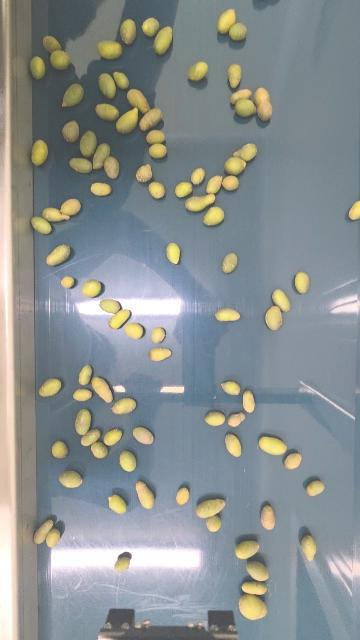Baby Potato: (237, 592, 269, 621), (253, 85, 274, 121), (258, 433, 288, 457), (195, 497, 227, 519), (91, 374, 114, 404), (152, 24, 174, 55), (138, 106, 164, 132), (126, 87, 151, 114), (115, 107, 140, 134), (184, 193, 217, 212), (135, 480, 155, 510), (46, 243, 71, 267), (61, 83, 84, 109), (97, 71, 117, 100), (78, 130, 98, 159), (34, 517, 54, 546), (217, 7, 237, 35), (96, 40, 124, 60), (91, 141, 111, 169), (201, 204, 225, 227), (186, 59, 210, 82), (234, 539, 260, 560), (119, 17, 138, 45), (30, 139, 49, 167), (39, 376, 63, 398), (246, 560, 270, 582), (271, 287, 292, 312), (224, 155, 249, 176), (300, 534, 318, 562), (30, 215, 54, 236), (233, 97, 257, 118), (259, 504, 278, 530), (265, 305, 284, 331), (42, 206, 71, 223), (74, 408, 92, 435), (235, 140, 258, 161), (61, 119, 81, 143), (241, 579, 269, 596), (29, 55, 47, 81), (94, 103, 120, 121), (49, 49, 71, 70), (226, 62, 243, 89), (59, 469, 83, 488), (225, 433, 243, 458), (111, 397, 136, 415), (60, 197, 82, 217), (103, 155, 121, 179), (294, 270, 311, 295), (133, 425, 154, 445), (81, 279, 102, 299), (109, 309, 130, 329), (215, 307, 241, 323), (141, 16, 160, 37), (204, 174, 223, 195), (79, 428, 101, 446), (221, 251, 238, 274), (69, 156, 92, 173), (229, 21, 248, 41), (108, 494, 127, 514), (103, 427, 123, 446), (204, 410, 226, 427), (119, 450, 136, 472), (149, 346, 172, 362), (284, 451, 303, 470), (124, 321, 144, 339), (78, 363, 93, 387), (241, 389, 256, 413), (305, 479, 325, 497), (45, 527, 61, 549), (144, 128, 166, 144), (90, 181, 112, 197), (166, 242, 181, 265), (230, 87, 253, 102), (147, 180, 165, 199), (174, 181, 193, 199), (51, 440, 69, 459), (136, 163, 153, 183), (147, 142, 167, 159), (41, 34, 61, 51), (112, 69, 129, 89), (99, 298, 120, 314), (222, 173, 240, 191), (114, 553, 131, 572), (190, 166, 206, 186), (91, 441, 108, 459), (206, 514, 223, 532), (226, 411, 245, 427), (72, 387, 92, 402), (221, 380, 241, 395), (150, 326, 166, 344), (348, 199, 360, 222), (176, 486, 189, 506), (60, 274, 74, 289)
